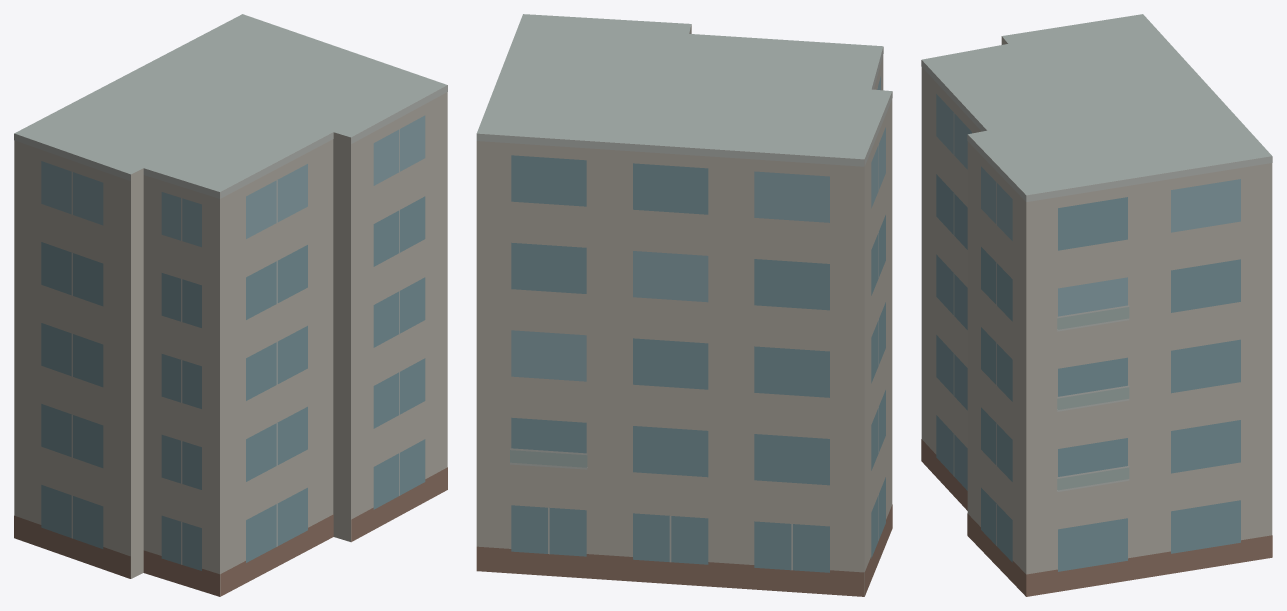
File: survey-upis-32980588.glb
3 renders of one model, left to right at view 1: azimuth 30°, elevation 25°; view 2: azimuth 150°, elevation 25°; view 3: azimuth 270°, elevation 25°, orthographic. The views are drawn at different scales.
Parts seen in each view (by area): view 1: survey-upis-32980588.tmp; view 2: survey-upis-32980588.tmp; view 3: survey-upis-32980588.tmp.
Boxes of the visible parts, <box> form: survey-upis-32980588.tmp: <box>14,14,447,596</box>; survey-upis-32980588.tmp: <box>476,14,892,596</box>; survey-upis-32980588.tmp: <box>921,14,1272,596</box>.
Bounding box in the file's own units: 14.06 × 14.5 × 11.5.
